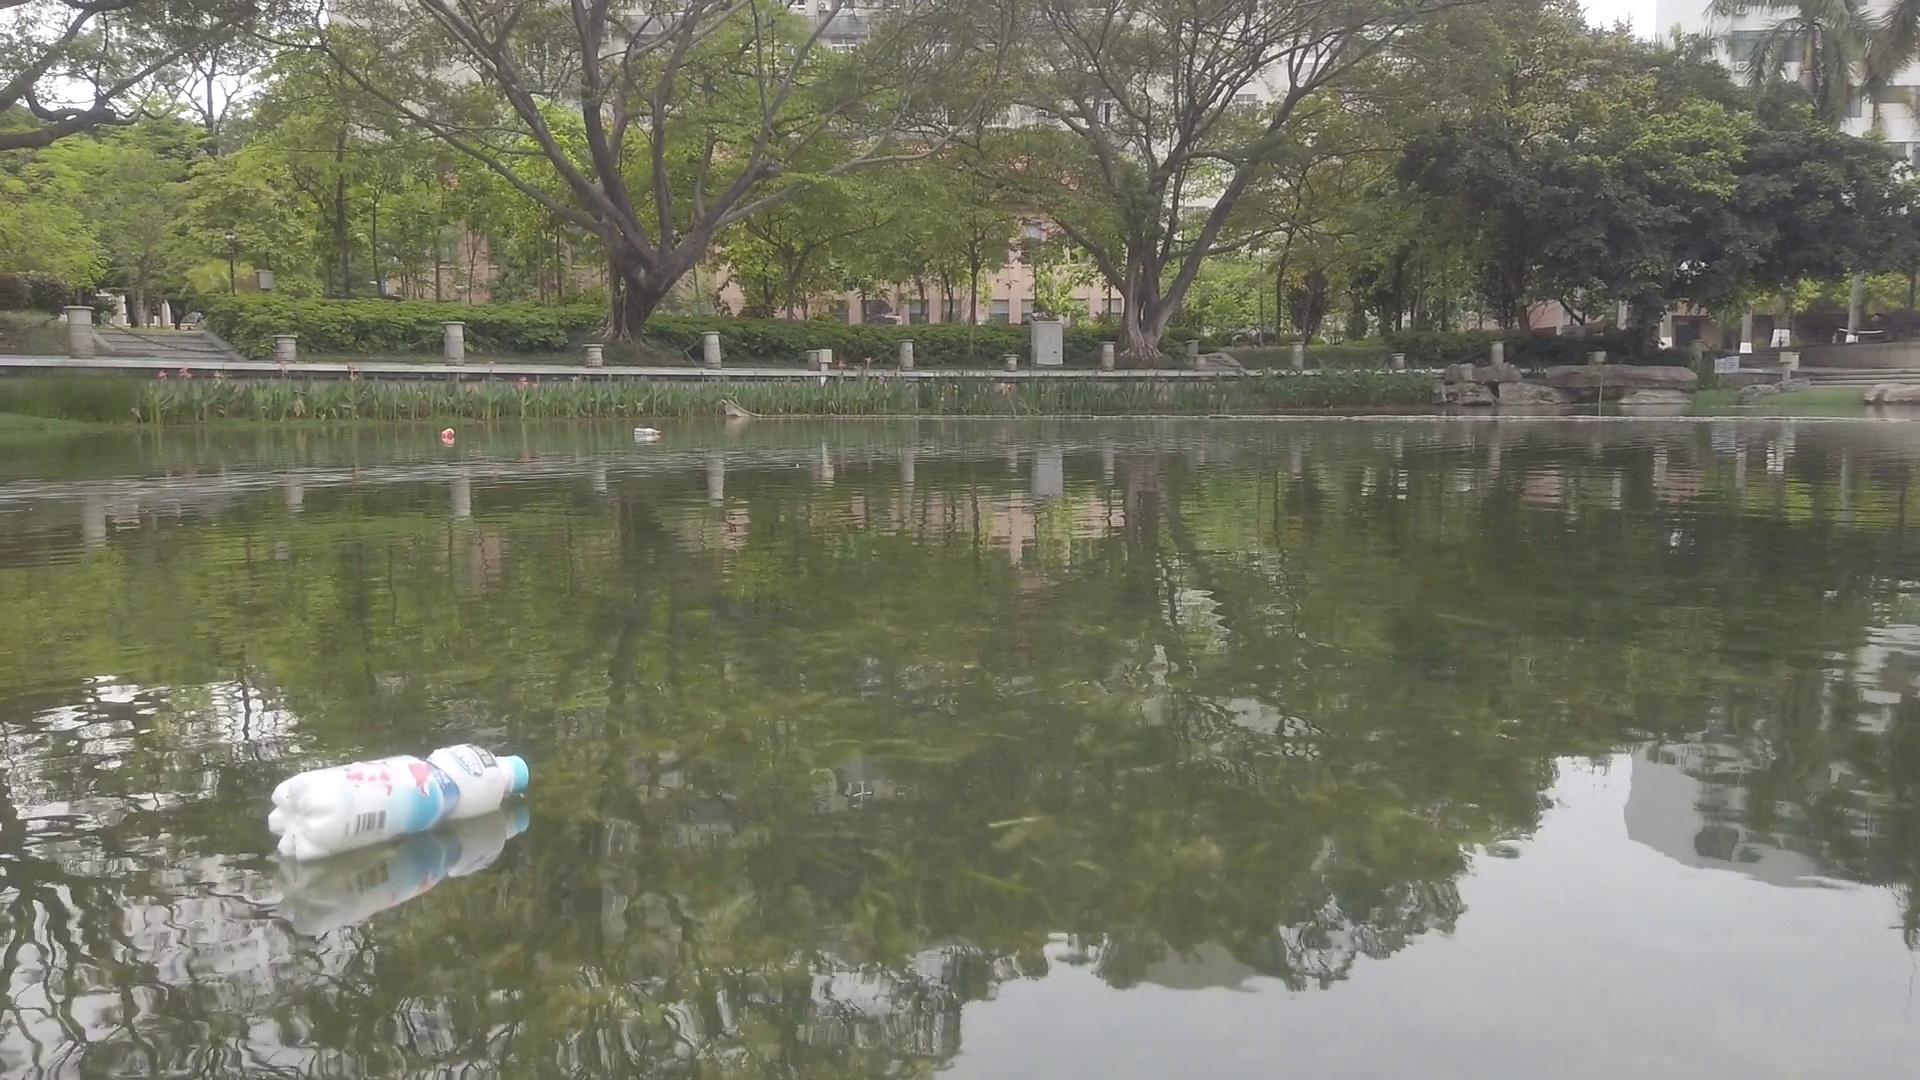bottle: (266, 750, 527, 840), (632, 429, 663, 438), (442, 429, 454, 440)
